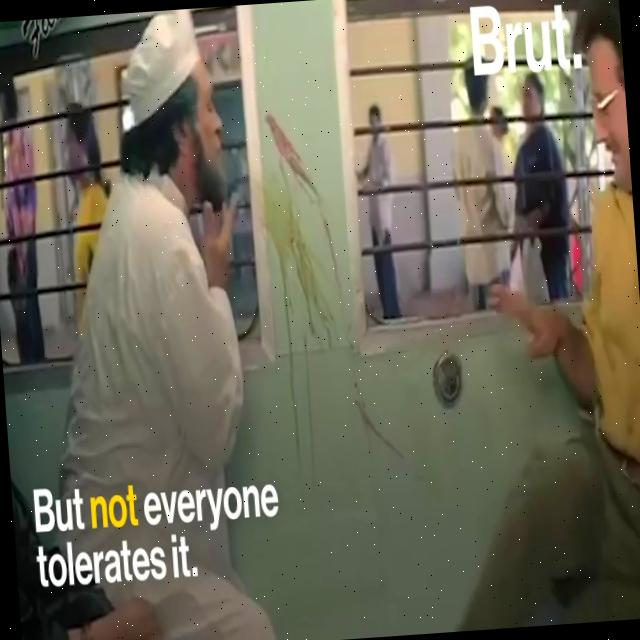spit: (99, 10, 361, 338)
